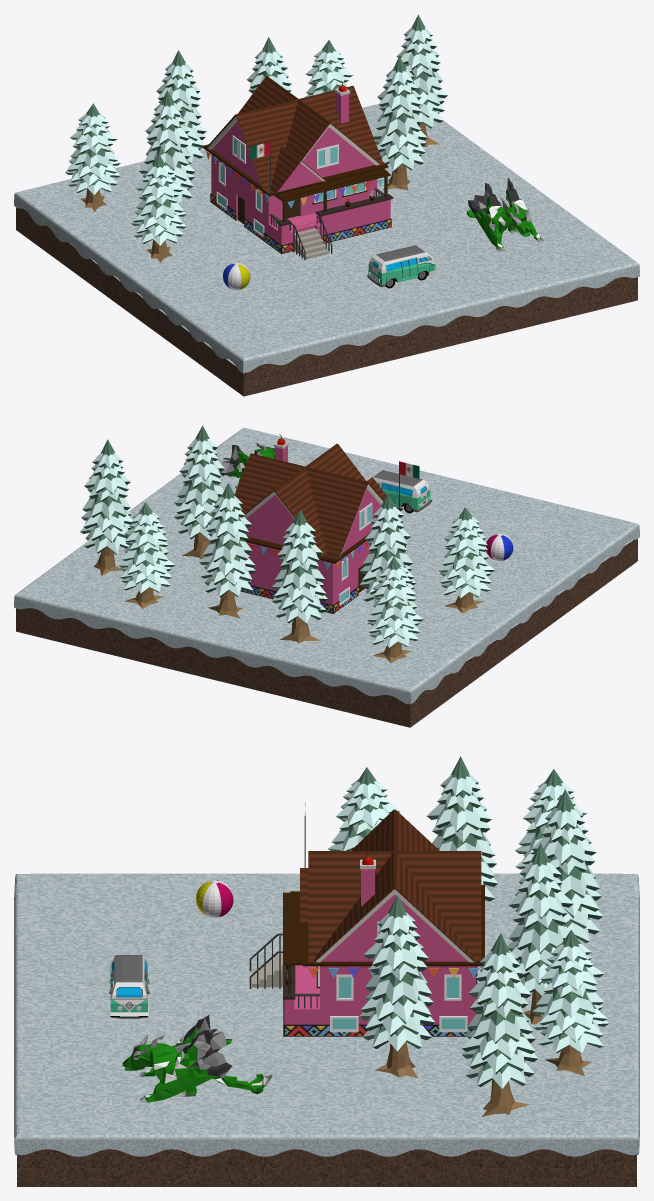
3 renders of one model, top to bottom at view 1: azimuth 30°, elevation 25°; view 2: azimuth 150°, elevation 25°; view 3: azimuth 270°, elevation 25°, orthographic. The views are drawn at different scales.
Visible parts, largest first — view 1: Cube.003, Cube.1005, ANIMAL_DRAGON, VEHICLES_VAN, OBJRANDOM_BEACHBALL; view 2: Cube.003, Cube.1005, VEHICLES_VAN, ANIMAL_DRAGON, OBJRANDOM_BEACHBALL; view 3: Cube.003, Cube.1005, ANIMAL_DRAGON, VEHICLES_VAN, OBJRANDOM_BEACHBALL.
Part boxes in pixels (box(x1,y1,x2,y2)): Cube.003: box(14, 14, 639, 396); Cube.1005: box(202, 76, 393, 260); ANIMAL_DRAGON: box(467, 177, 543, 251); VEHICLES_VAN: box(367, 245, 436, 288); OBJRANDOM_BEACHBALL: box(223, 262, 250, 290); Cube.003: box(14, 425, 639, 727); Cube.1005: box(234, 434, 419, 613); VEHICLES_VAN: box(372, 470, 431, 513); ANIMAL_DRAGON: box(219, 442, 274, 494); OBJRANDOM_BEACHBALL: box(486, 533, 513, 560); Cube.003: box(14, 756, 639, 1186); Cube.1005: box(249, 802, 484, 1036); ANIMAL_DRAGON: box(122, 1015, 272, 1102); VEHICLES_VAN: box(109, 955, 149, 1018); OBJRANDOM_BEACHBALL: box(196, 880, 233, 917).
Bounding box in the file's own units: 4040 × 1708 × 4040.
Materials: 70 (5 with a texture image).
